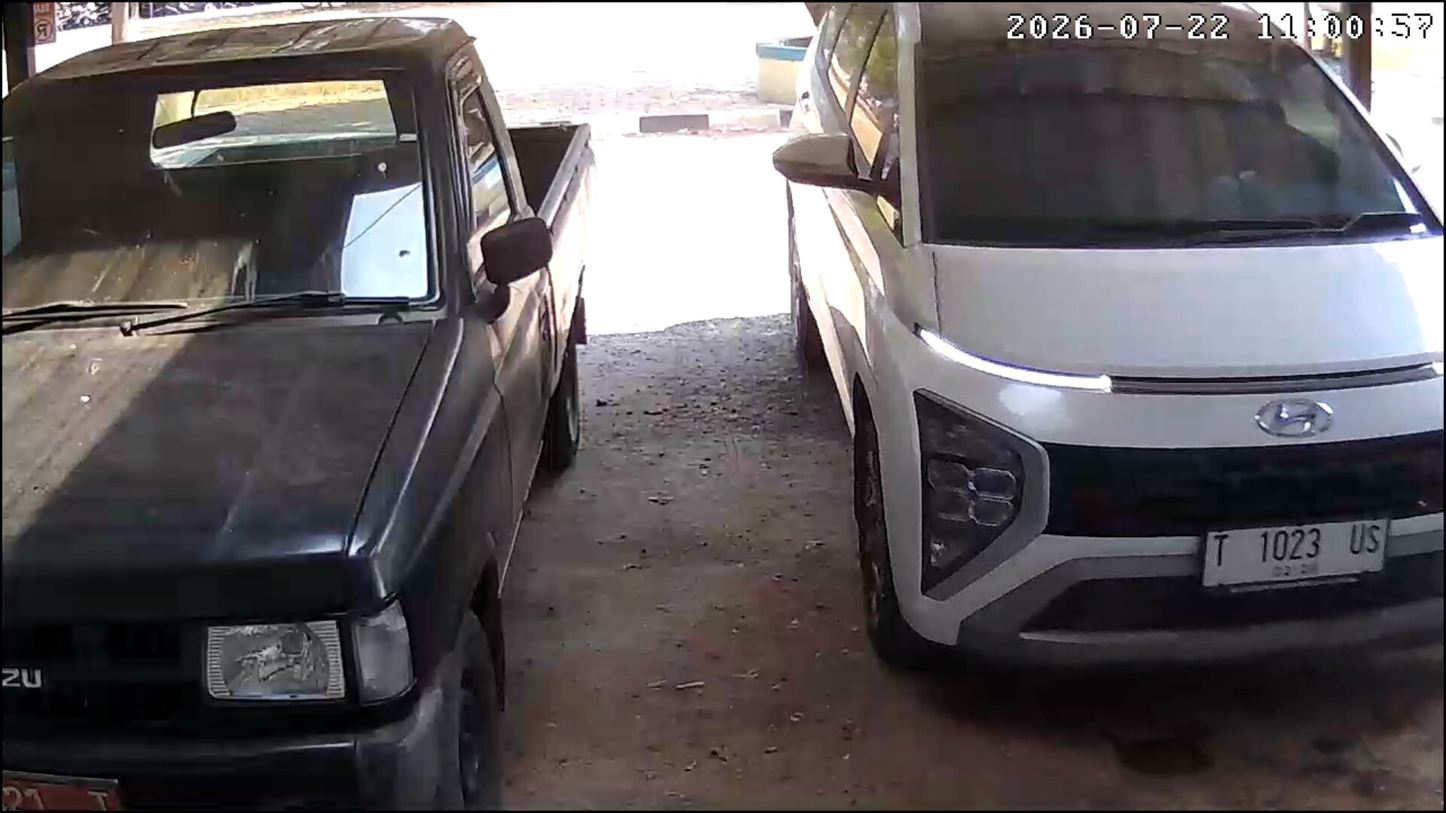plat nomor: (1199, 515, 1389, 593)
